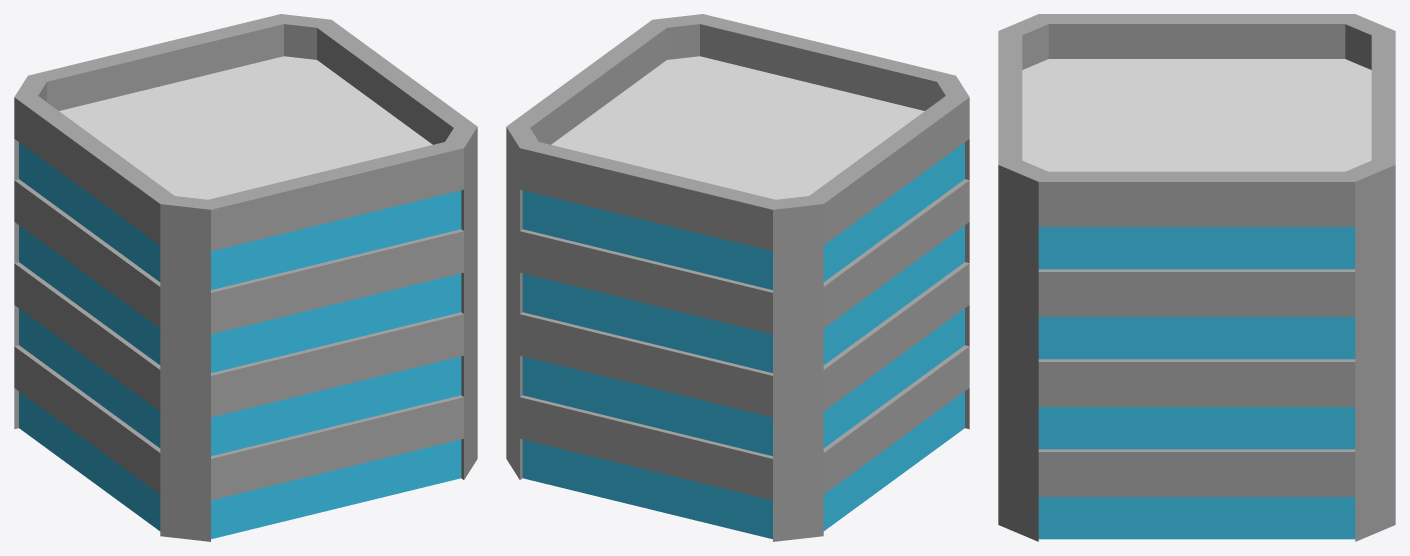
Rendered from building2.fbx.
3 views of the same model, side by side, from view 1: azimuth 30°, elevation 25°; view 2: azimuth 150°, elevation 25°; view 3: azimuth 270°, elevation 25° (orthographic). The views are drawn at different scales.
Visible parts, largest first — view 1: Cube; view 2: Cube; view 3: Cube.
Boxes of the visible parts, bbox=[...] form: Cube: bbox=[14, 14, 477, 541]; Cube: bbox=[506, 14, 969, 541]; Cube: bbox=[998, 14, 1395, 541].
Bounding box in the file's own units: 2000 × 2000 × 2000.
